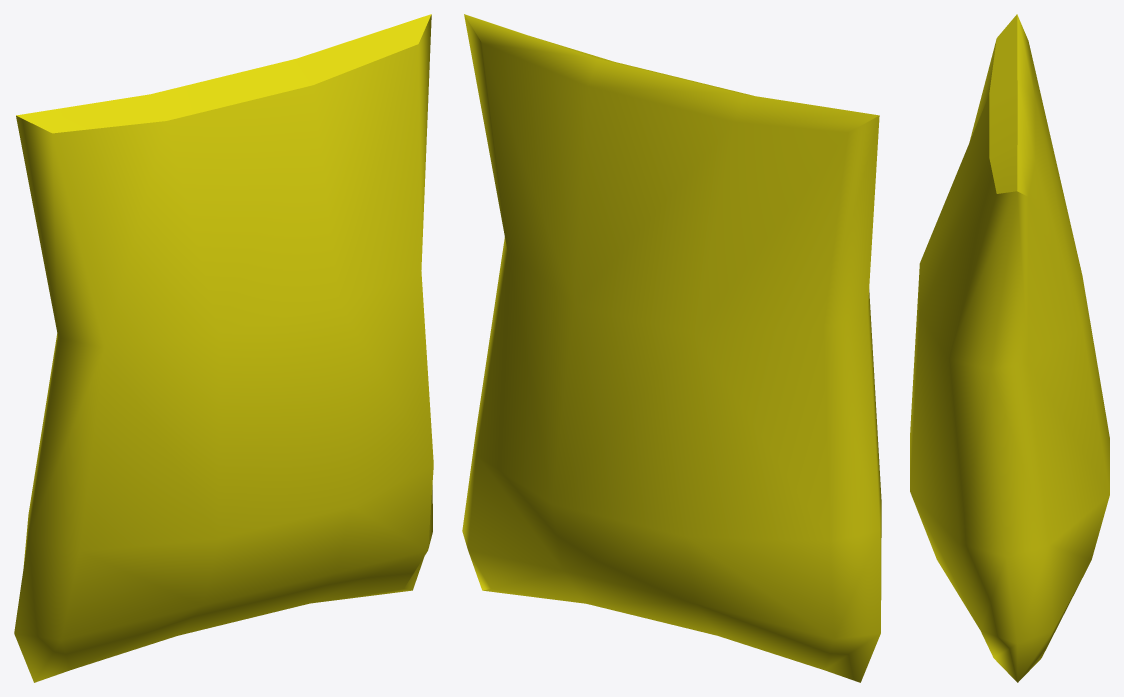
File: Chips.fbx
3 views of the same model, side by side, from view 1: azimuth 30°, elevation 25°; view 2: azimuth 150°, elevation 25°; view 3: azimuth 270°, elevation 25° (orthographic). The views are drawn at different scales.
Visible parts, largest first — view 1: Snack; view 2: Snack; view 3: Snack.
Part boxes in pixels (bbox=[...]): Snack: bbox=[14, 14, 433, 682]; Snack: bbox=[462, 14, 881, 682]; Snack: bbox=[910, 14, 1109, 682].
Bounding box in the file's own units: 4.47 × 5.83 × 2.11.
